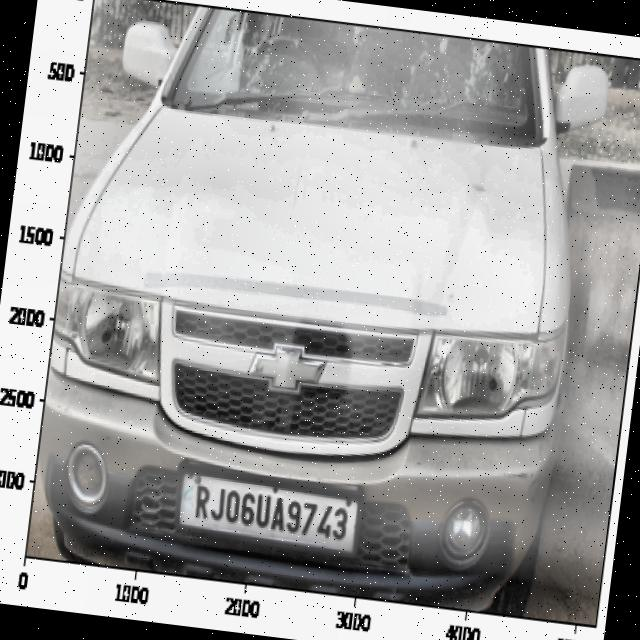license_plate: (182, 471, 355, 549)
